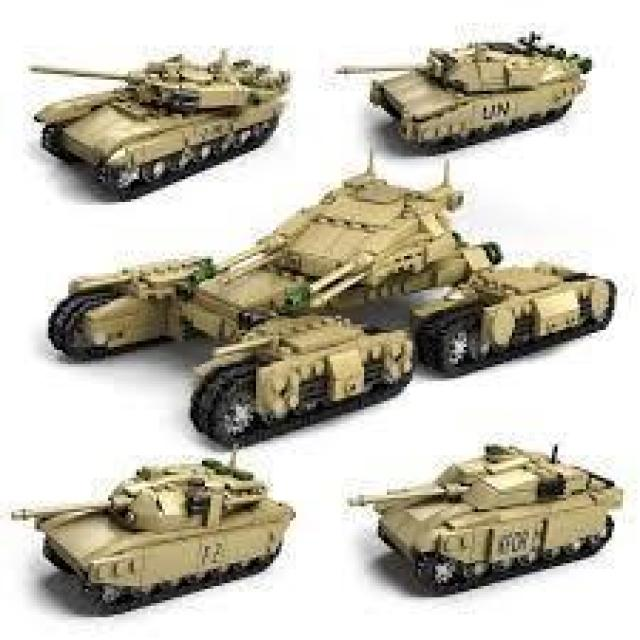Tanks: (13, 169, 579, 448), (4, 445, 320, 622), (43, 14, 307, 191), (337, 444, 579, 631), (329, 30, 576, 178)
